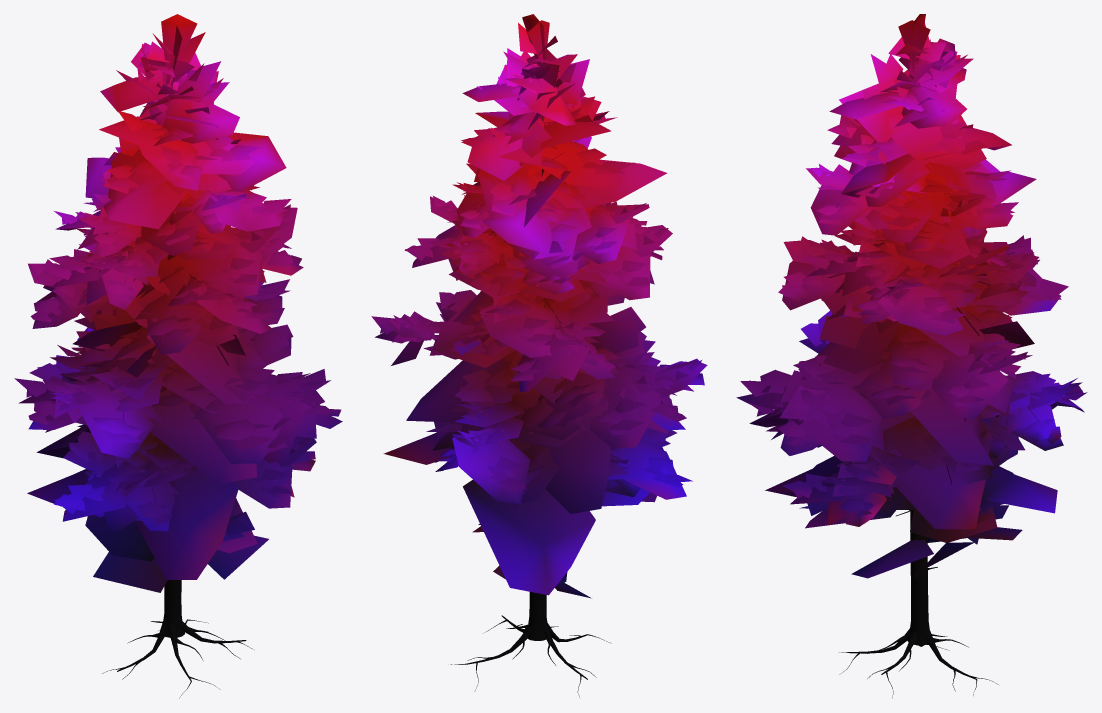
Rendered from Fir_03_Medium_advanced.FBX.
3 renders of one model, left to right at view 1: azimuth 30°, elevation 25°; view 2: azimuth 150°, elevation 25°; view 3: azimuth 270°, elevation 25°, orthographic.
Visible parts, largest first — view 1: Fir_leaves_LOD0, Fir_03_bark_LOD0; view 2: Fir_leaves_LOD0, Fir_03_bark_LOD0; view 3: Fir_leaves_LOD0, Fir_03_bark_LOD0.
Boxes of the visible parts, x1,y1,x2,y2 form: Fir_leaves_LOD0: (14, 14, 342, 592); Fir_03_bark_LOD0: (102, 76, 252, 698); Fir_leaves_LOD0: (371, 14, 707, 598); Fir_03_bark_LOD0: (450, 115, 627, 697); Fir_leaves_LOD0: (736, 14, 1087, 578); Fir_03_bark_LOD0: (839, 242, 998, 698).
Size of what is drawn, in the model's own units: 5742 by 12518 by 5985.
